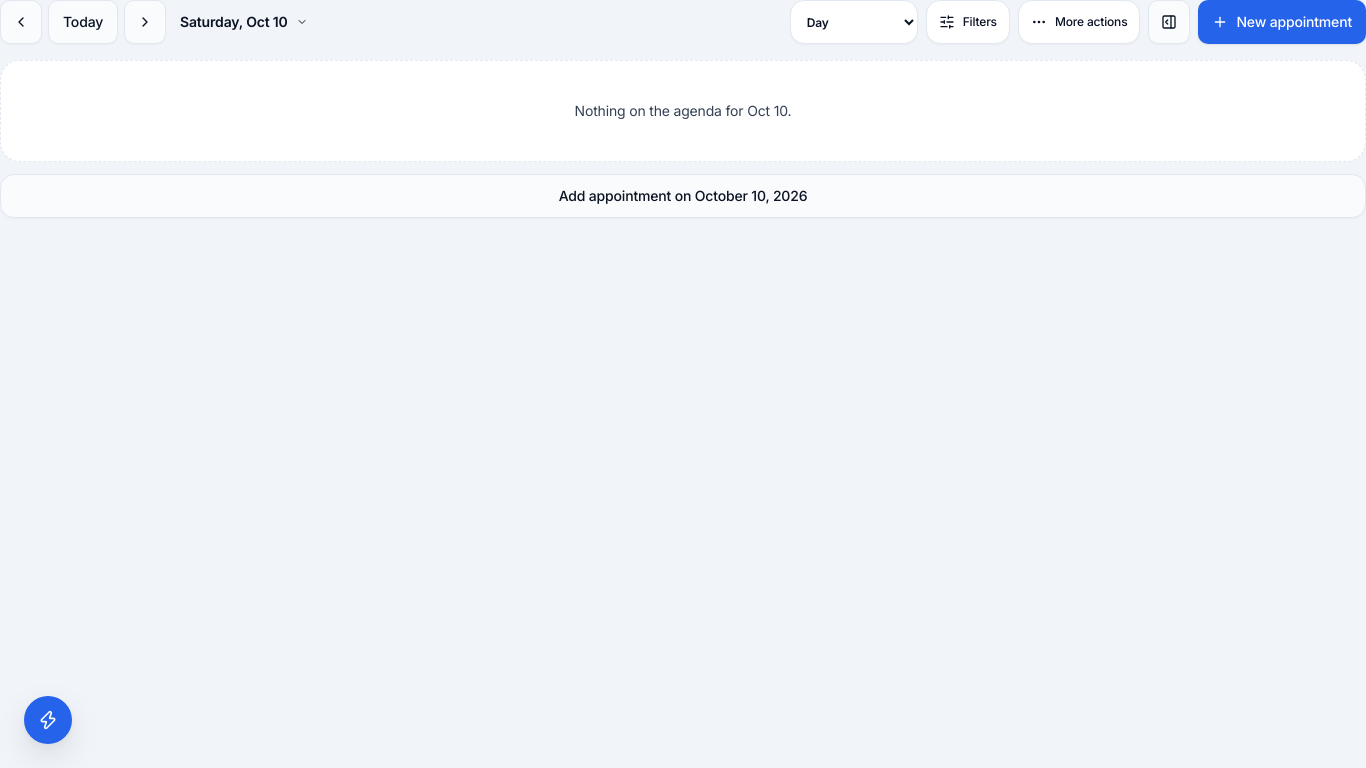
Calendar routes into the real Booking Sheet › offers contextual mobile Day creation without a time or staff fallback
Click the button "Add appointment on October 10, 2026" at coordinates (683, 196), box [0,174,1365,218]
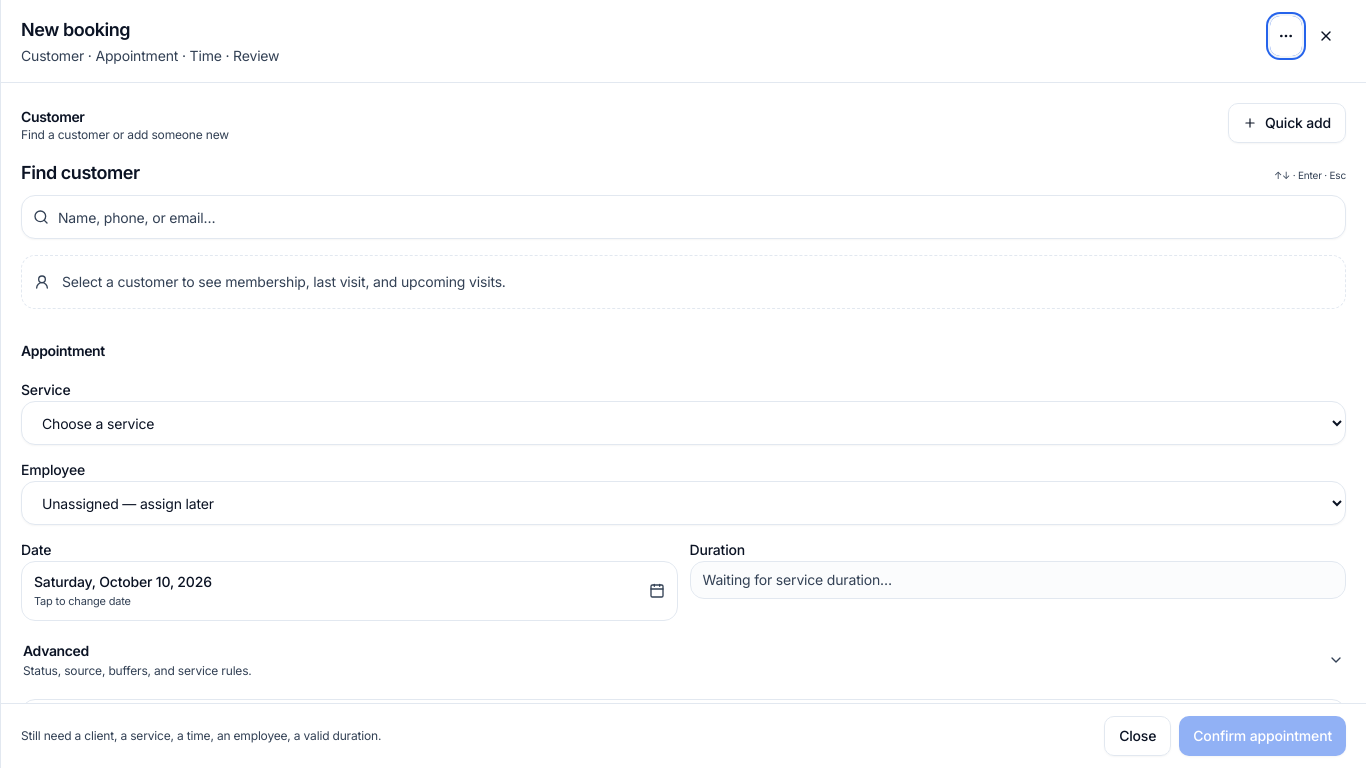
Expected: the element named "date" holds "2026-10-10", [21,537,678,621]
Expected: the form named "start_time" is empty, [21,716,1346,756]
Expected: the form named "staff_id" is empty, [21,716,1346,756]
